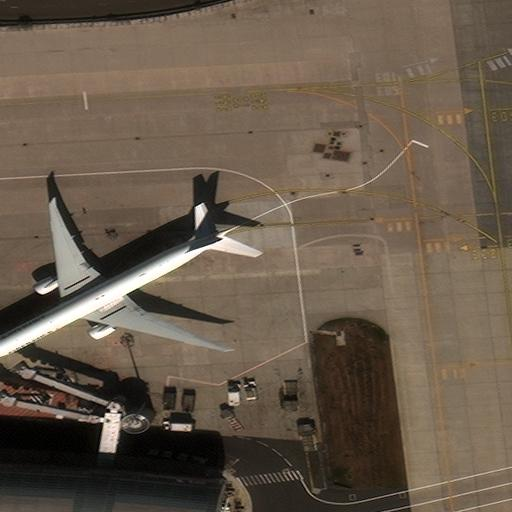Large Civil Transport: (0, 202, 226, 357)
